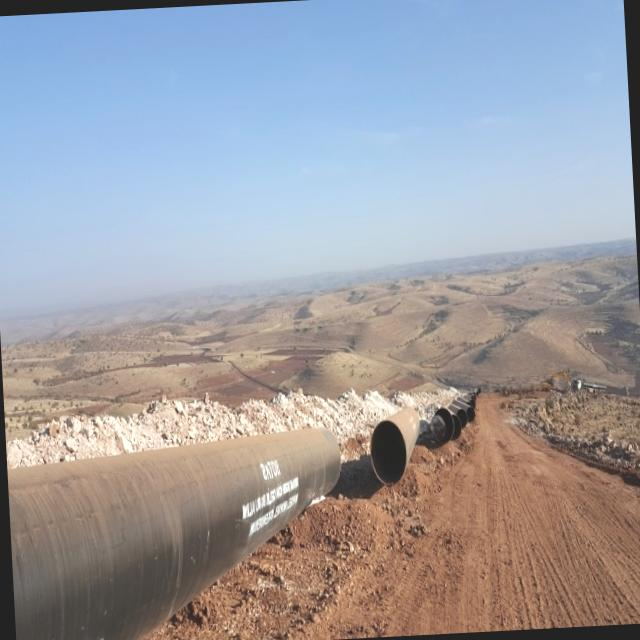gas: (7, 427, 340, 640), (370, 408, 420, 482)
